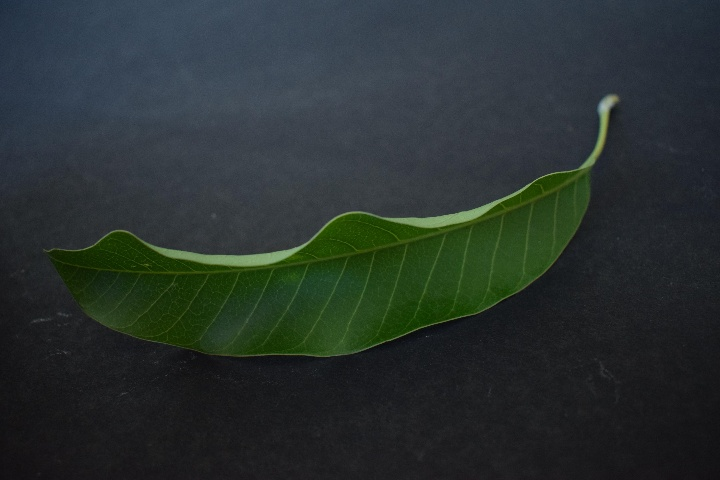healthy: (51, 162, 606, 354)
